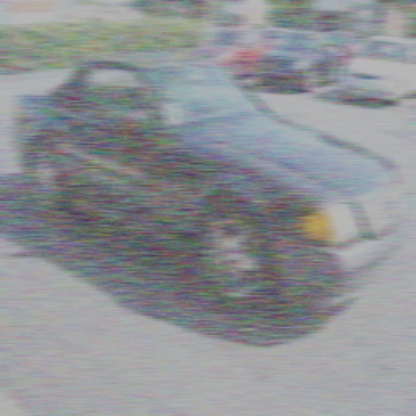Vehicle: (16, 62, 405, 320)
